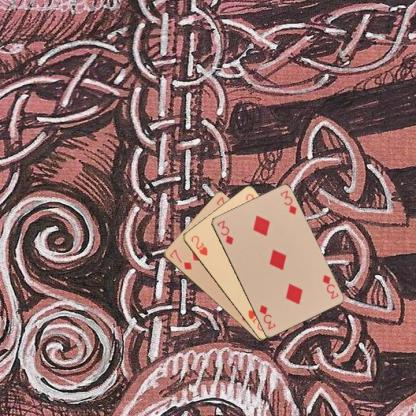2h: (188, 233, 209, 257)
3d: (214, 218, 235, 246), (320, 272, 340, 301)
7d: (166, 247, 193, 271)
